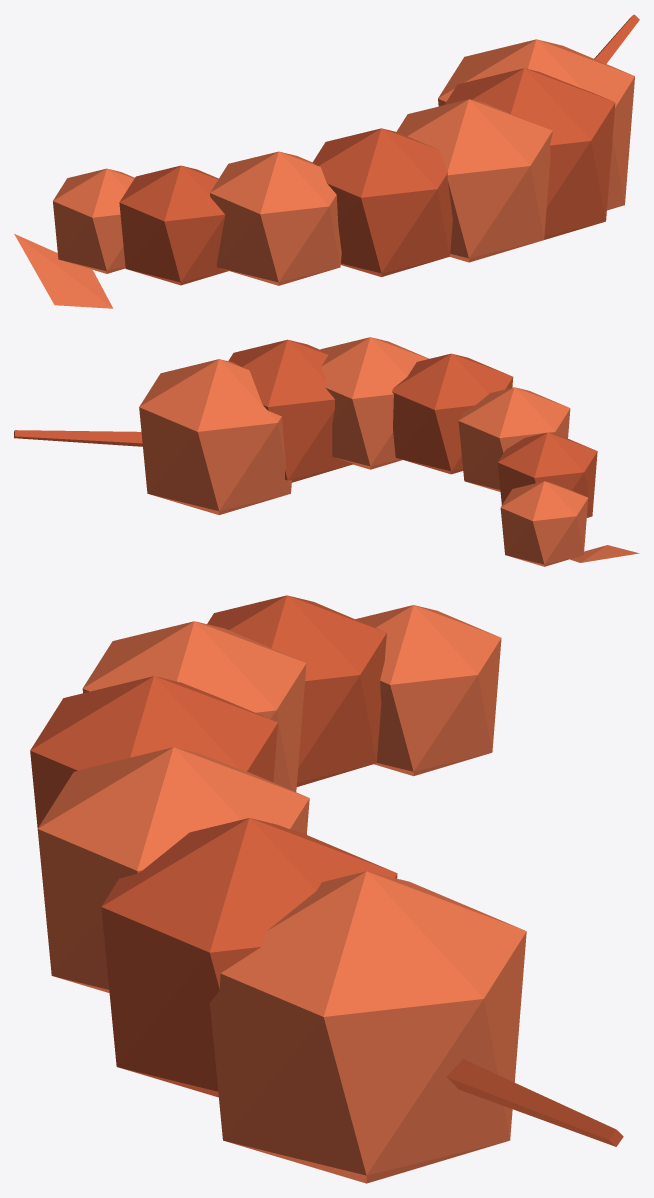
The model's file is drop_shrimp_cooked.glb.
The picture shows the model from 3 angles, top to bottom: view 1: azimuth 30°, elevation 25°; view 2: azimuth 150°, elevation 25°; view 3: azimuth 270°, elevation 25°; orthographic projection. The views are drawn at different scales.
Visible parts, largest first — view 1: drop_shrimp_cooked; view 2: drop_shrimp_cooked; view 3: drop_shrimp_cooked.
Part boxes in pixels (left/top/right/bottom): drop_shrimp_cooked: left=14, top=14, right=639, bottom=308; drop_shrimp_cooked: left=14, top=337, right=639, bottom=566; drop_shrimp_cooked: left=30, top=595, right=623, bottom=1183.
Bounding box in the file's own units: 0.4118 × 0.12 × 0.1923.
